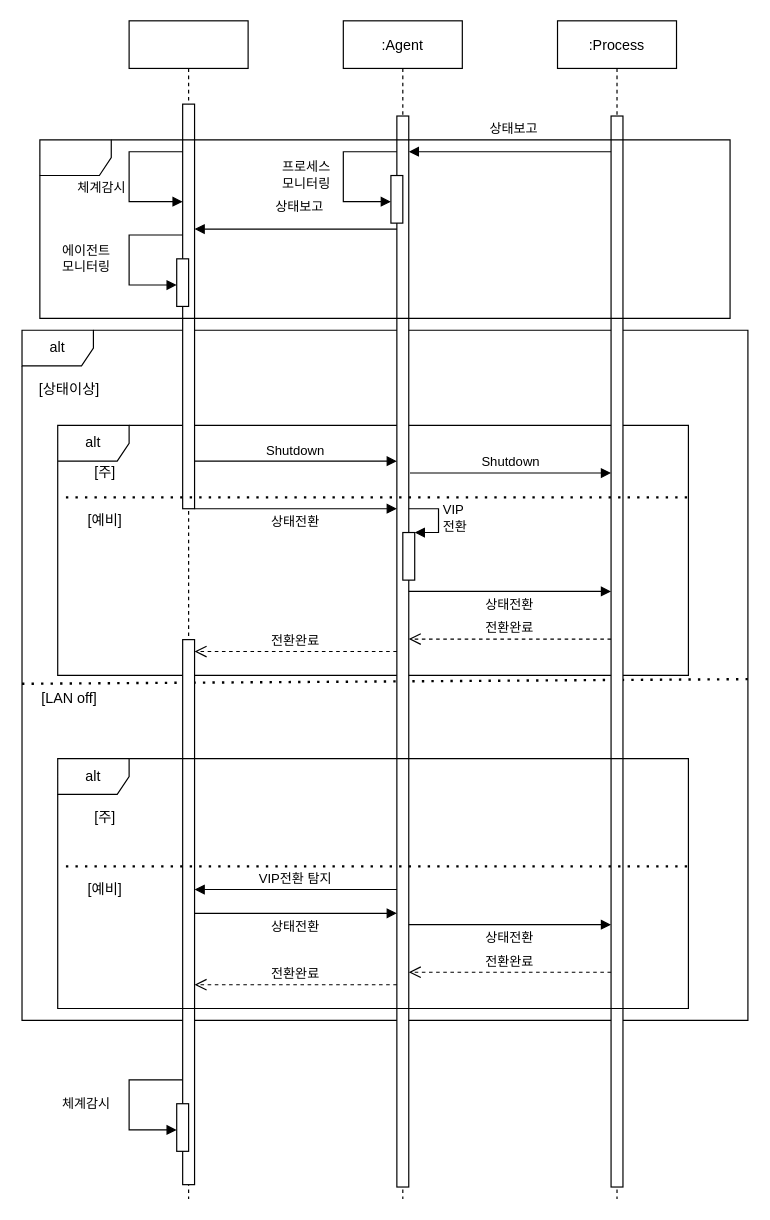
This 770x1220 diagram has some shape labels left out. The shapes that lost their labels are listed below. From the top down, each one's centre as x and y in pixels, then its label:
the point at 384,228: loop
the point at 188,609: :Manager
